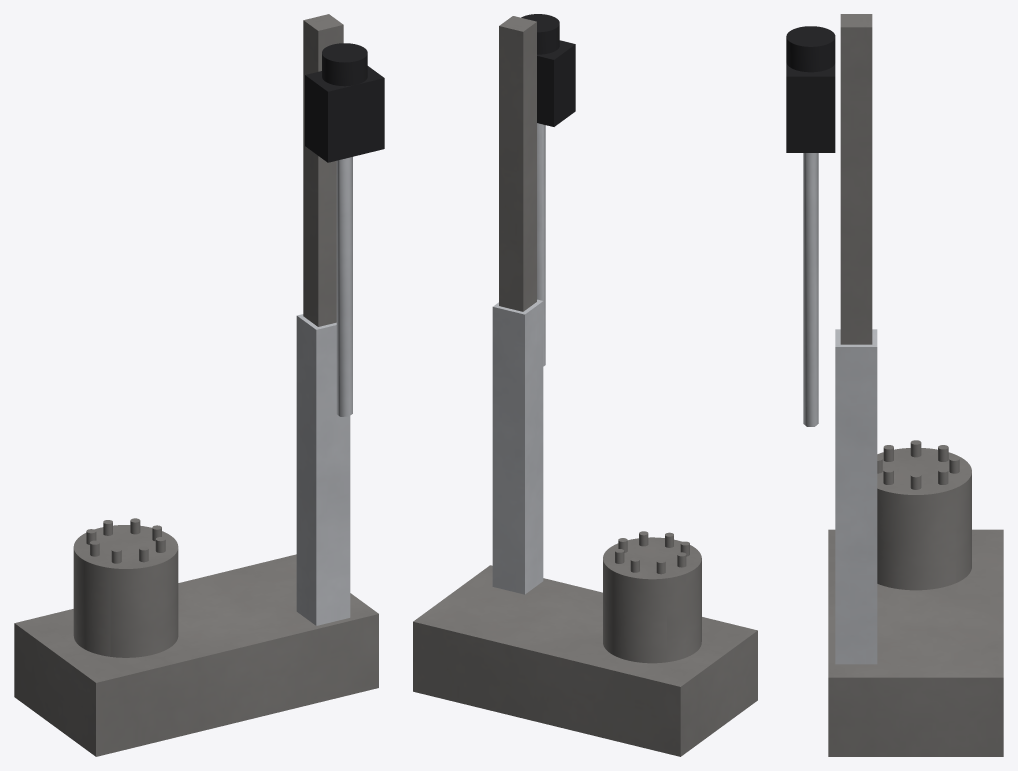
Rendered from rover31_drill_mast_deployed.glb.
3 renders of one model, left to right at view 1: azimuth 30°, elevation 25°; view 2: azimuth 150°, elevation 25°; view 3: azimuth 270°, elevation 25°, orthographic. The views are drawn at different scales.
Parts seen in each view (by area): view 1: base, mast_outer, carousel, mast_head, mast_inner, mast_drill_string; view 2: base, mast_outer, carousel, mast_inner, mast_head, mast_drill_string; view 3: base, mast_outer, carousel, mast_inner, mast_head, mast_drill_string.
Part boxes in pixels (<box>): base: <box>14,554,378,756</box>; mast_outer: <box>296,314,350,625</box>; carousel: <box>73,518,178,657</box>; mast_head: <box>305,43,384,162</box>; mast_inner: <box>303,14,343,326</box>; mast_drill_string: <box>336,157,352,416</box>; base: <box>413,565,757,756</box>; mast_outer: <box>492,299,543,594</box>; carousel: <box>603,531,701,663</box>; mast_inner: <box>499,16,536,311</box>; mast_head: <box>521,14,575,126</box>; mast_drill_string: <box>537,123,545,366</box>; base: <box>828,529,1003,756</box>; mast_outer: <box>835,329,877,664</box>; carousel: <box>877,440,971,590</box>; mast_inner: <box>840,14,872,344</box>; mast_head: <box>786,26,835,152</box>; mast_drill_string: <box>803,153,818,426</box>.
Bounding box in the file's own units: 1 × 2.25 × 0.62.
3 materials, 2 textured.
